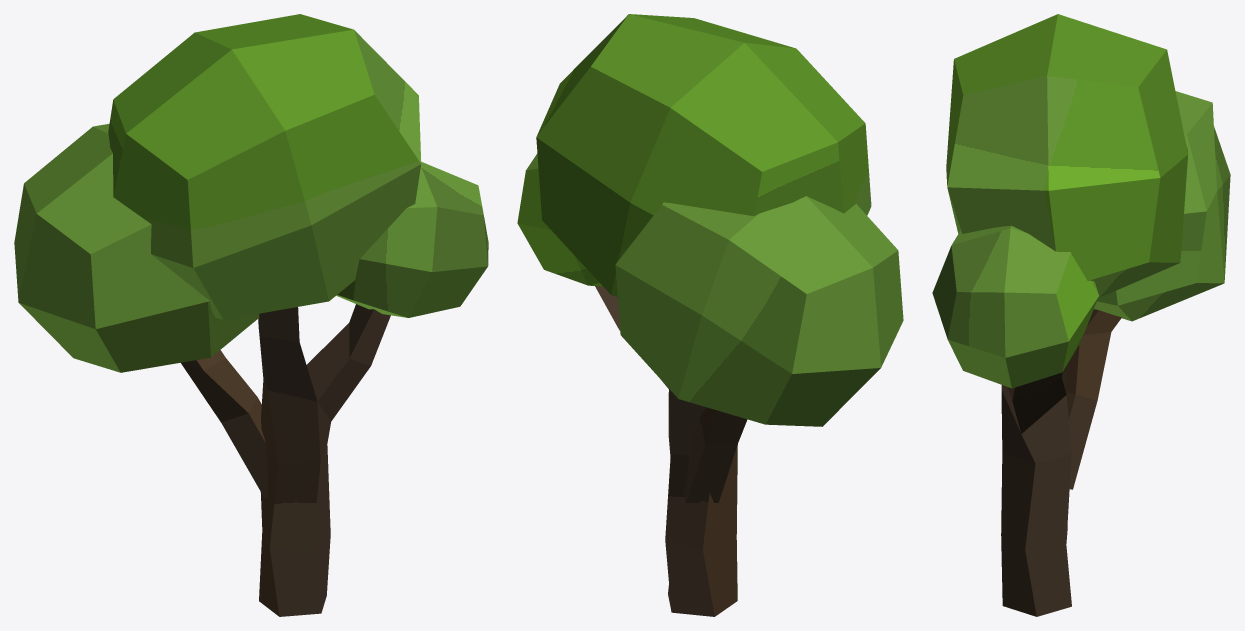
Rendered from tree-lowpoly.fbx.
3 renders of one model, left to right at view 1: azimuth 30°, elevation 25°; view 2: azimuth 150°, elevation 25°; view 3: azimuth 270°, elevation 25°, orthographic. The views are drawn at different scales.
Visible parts, largest first — view 1: Cube.001; view 2: Cube.001; view 3: Cube.001.
Boxes of the visible parts, x1,y1,x2,y2 form: Cube.001: (14,14,488,616); Cube.001: (517,14,903,616); Cube.001: (932,14,1230,616).
Size of the model in its own units: 5123 by 6792 by 3269.
